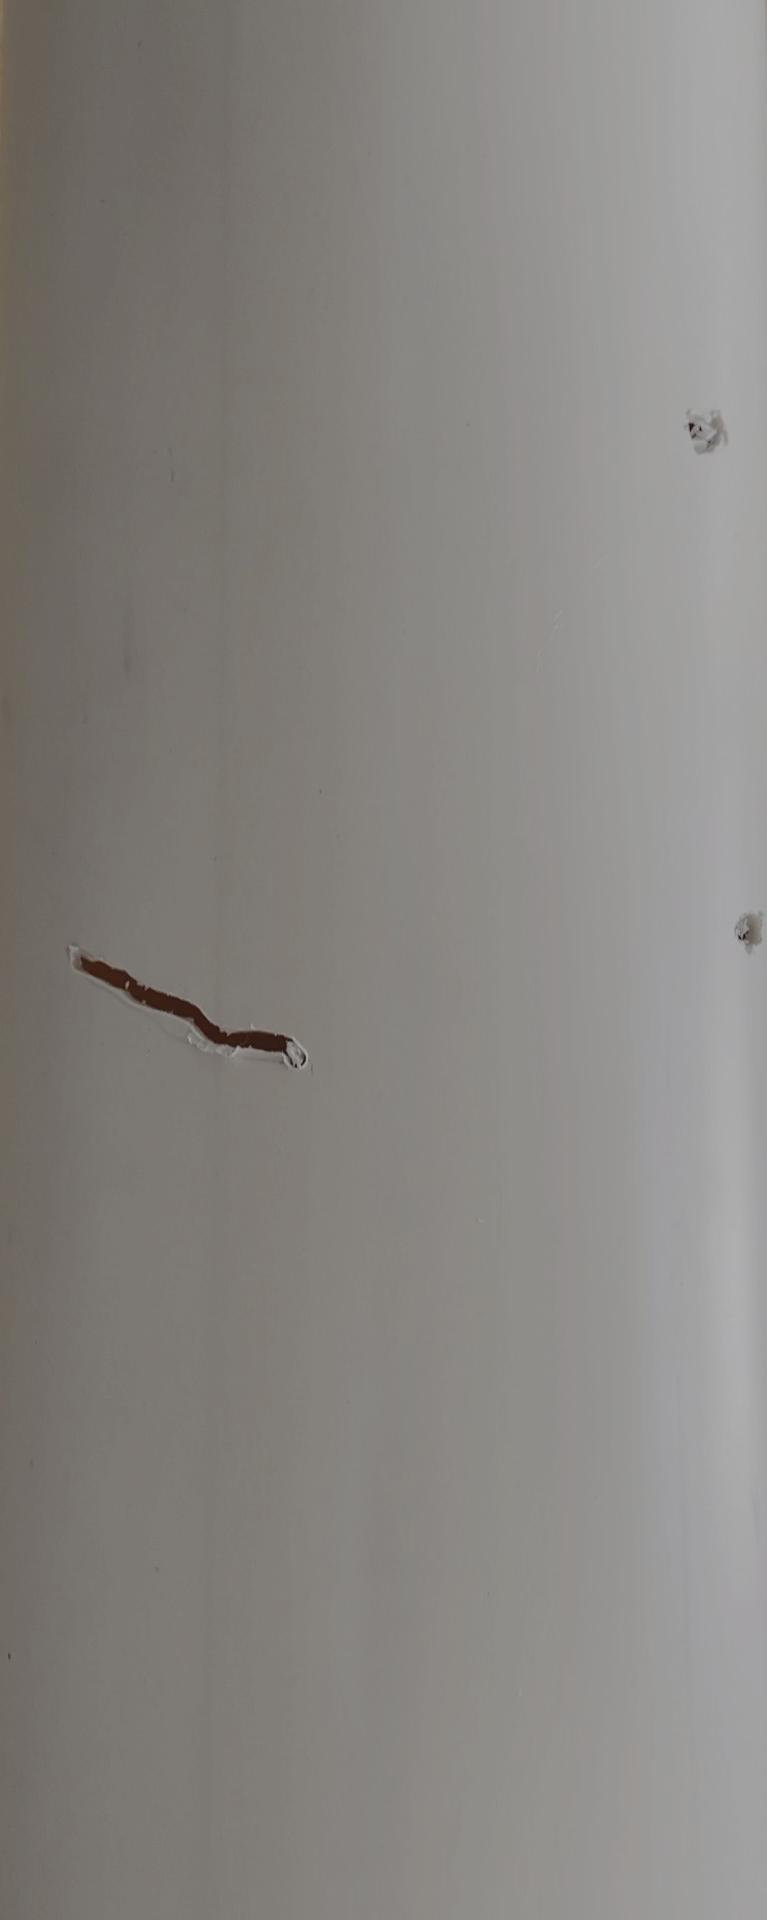fengxi: (56, 931, 310, 1074)
kongdong: (671, 404, 746, 463), (727, 888, 765, 961)
